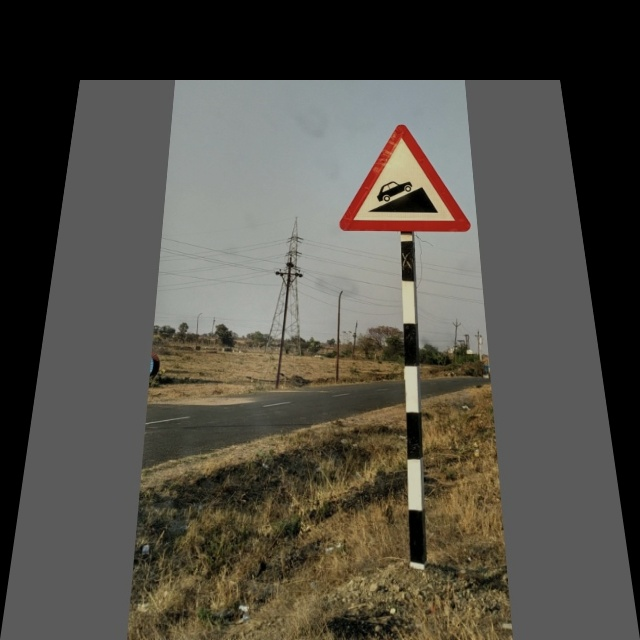Steep_Ascent: (332, 121, 475, 237)
